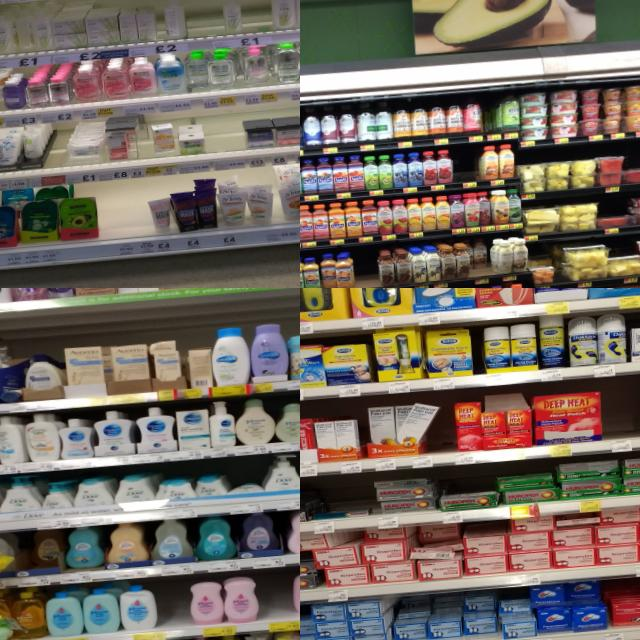100% O.O.S: (602, 381, 640, 451), (258, 568, 296, 631), (156, 577, 190, 640), (420, 414, 450, 466)
100- O.O.S: (96, 180, 134, 256), (204, 108, 246, 170), (184, 0, 223, 49), (130, 180, 154, 252), (239, 0, 275, 44), (48, 122, 68, 184), (352, 247, 379, 288), (454, 146, 476, 189)
